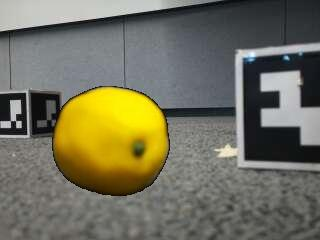lemon: (53, 87, 168, 195)
